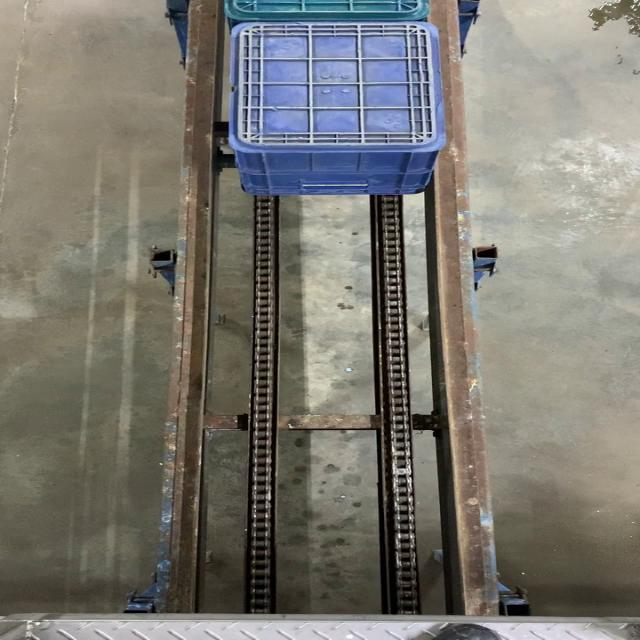Box: (231, 23, 442, 150)
